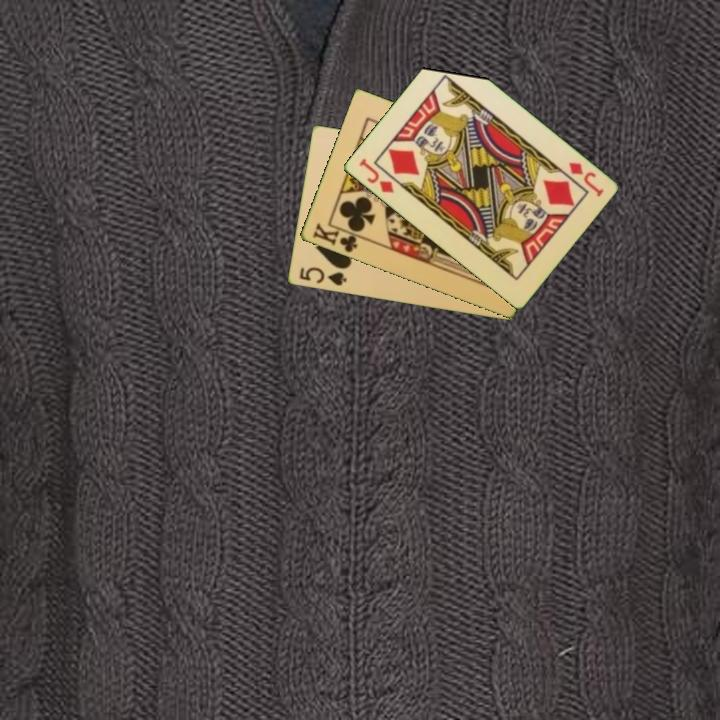5s: (295, 263, 349, 289)
Jd: (564, 158, 606, 200), (355, 155, 397, 196)
Kc: (309, 219, 365, 256)
